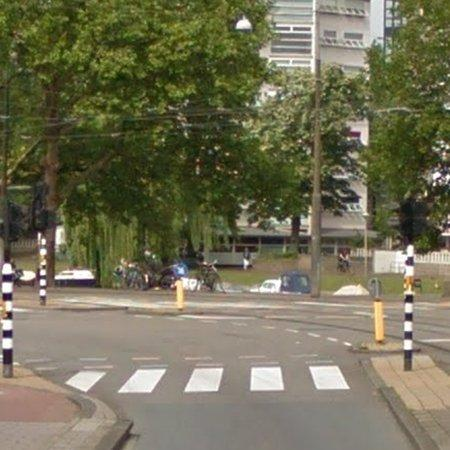crosswalks: (62, 362, 355, 397)
